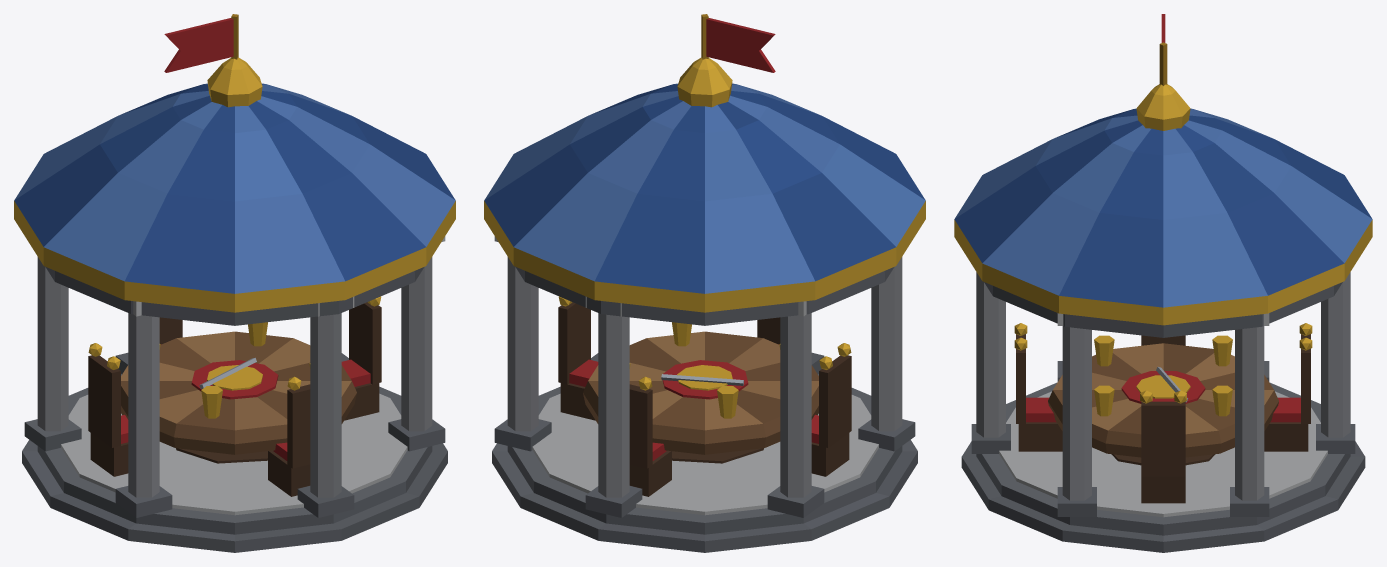
Rendered from Decor_KnightCastle_RoundTable.fbx.
The picture shows the model from 3 angles, left to right: view 1: azimuth 30°, elevation 25°; view 2: azimuth 150°, elevation 25°; view 3: azimuth 270°, elevation 25°; orthographic projection. The views are drawn at different scales.
Parts seen in each view (by area): view 1: RoundTable_Body; view 2: RoundTable_Body; view 3: RoundTable_Body.
Boxes of the visible parts, x1,y1,x2,y2 form: RoundTable_Body: (14,14,455,552); RoundTable_Body: (484,14,925,552); RoundTable_Body: (954,14,1372,552).
Size of the model in its own units: 17 by 19 by 17.
